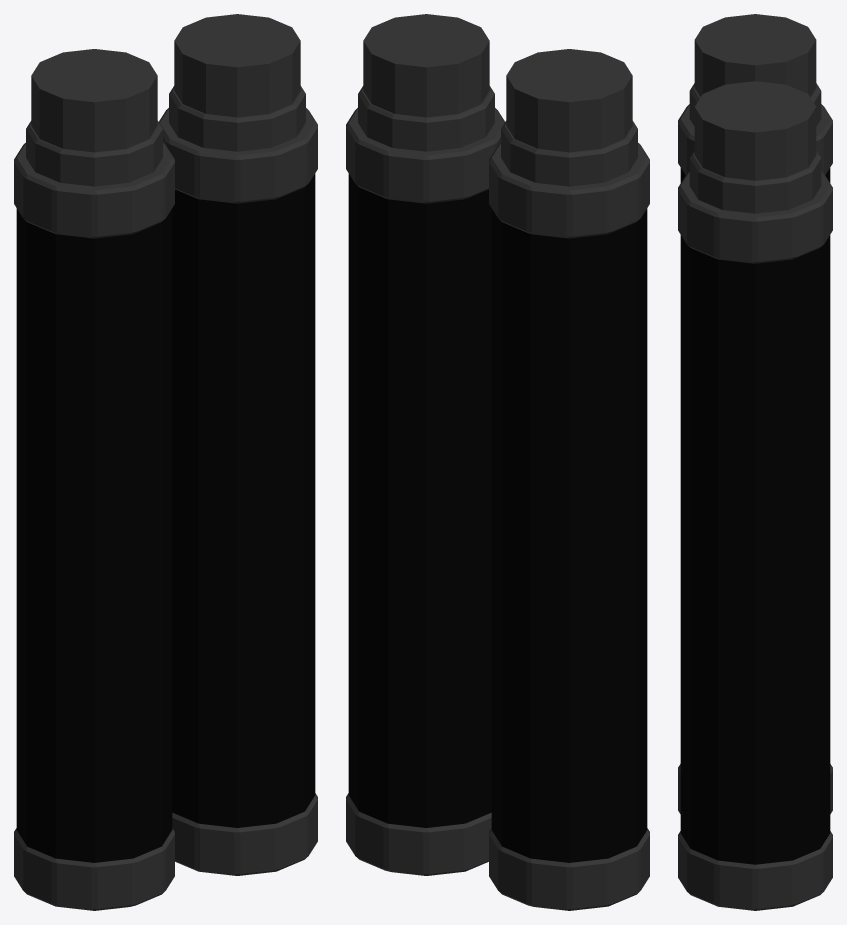
File: ShotgunSuppressor.glb
3 views of the same model, side by side, from view 1: azimuth 30°, elevation 25°; view 2: azimuth 150°, elevation 25°; view 3: azimuth 270°, elevation 25° (orthographic). The views are drawn at different scales.
Parts seen in each view (by area): view 1: ShotgunSuppressor; view 2: ShotgunSuppressor; view 3: ShotgunSuppressor.
Part boxes in pixels (x1,y1,x2,y2): ShotgunSuppressor: (14,14,317,910); ShotgunSuppressor: (346,14,649,910); ShotgunSuppressor: (678,14,832,910).
Size of the model in its own units: 2.39 by 6.5 by 1.18.
1 material, 1 textured.
